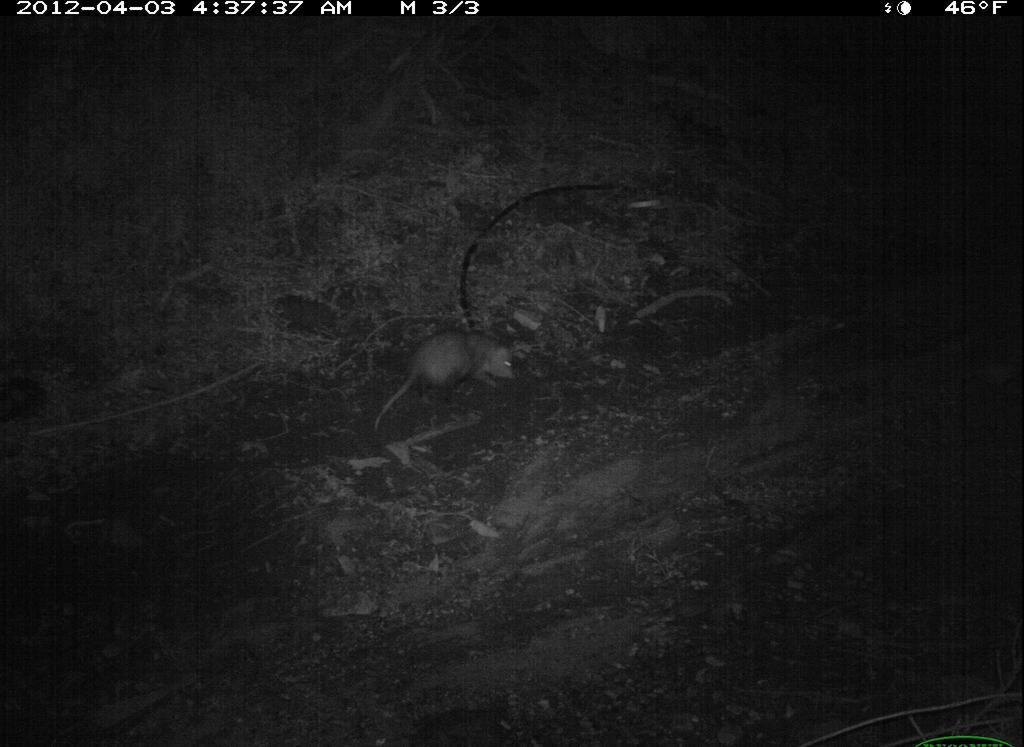opossum: (355, 323, 536, 447)
